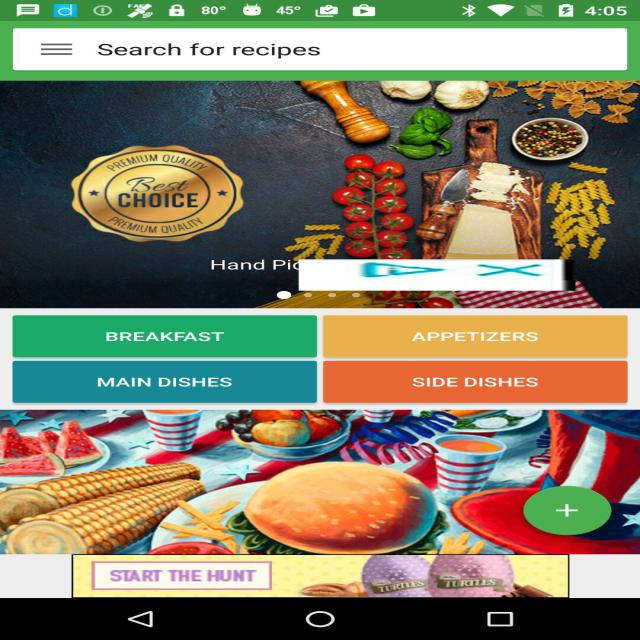sneaking: (299, 259, 575, 291)
